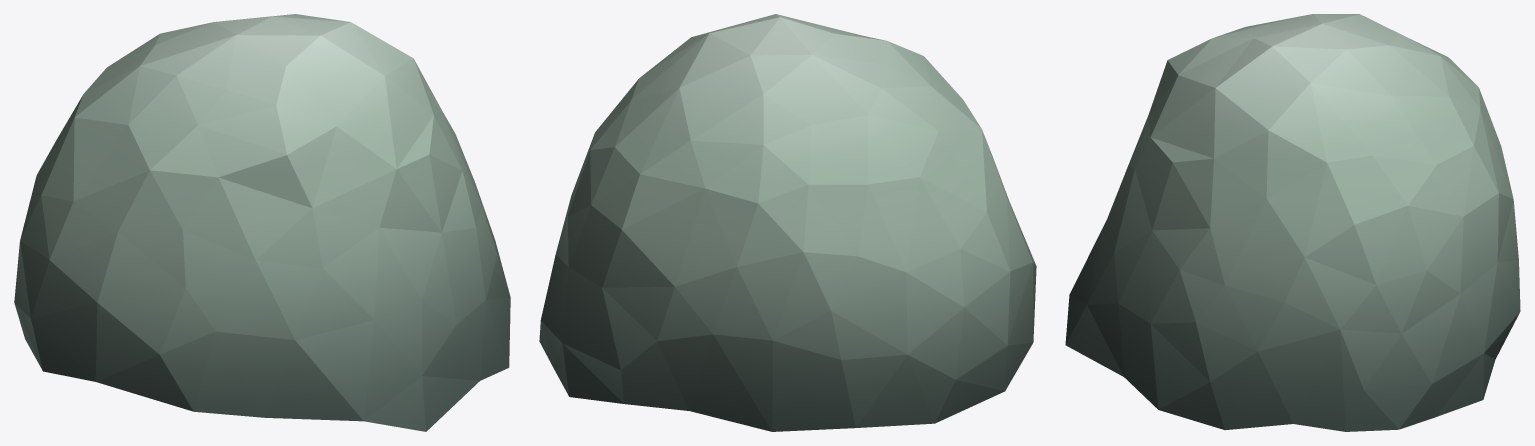
File: Top_03_03.fbx
3 renders of one model, left to right at view 1: azimuth 30°, elevation 25°; view 2: azimuth 150°, elevation 25°; view 3: azimuth 270°, elevation 25°, orthographic. The views are drawn at different scales.
Parts seen in each view (by area): view 1: Top_03; view 2: Top_03; view 3: Top_03.
Boxes of the visible parts, box(x1,y1,x2,y2) form: Top_03: box(14, 14, 510, 431); Top_03: box(539, 14, 1036, 431); Top_03: box(1065, 14, 1520, 431).
Size of the model in its own units: 2.46 by 1.73 by 2.31.
